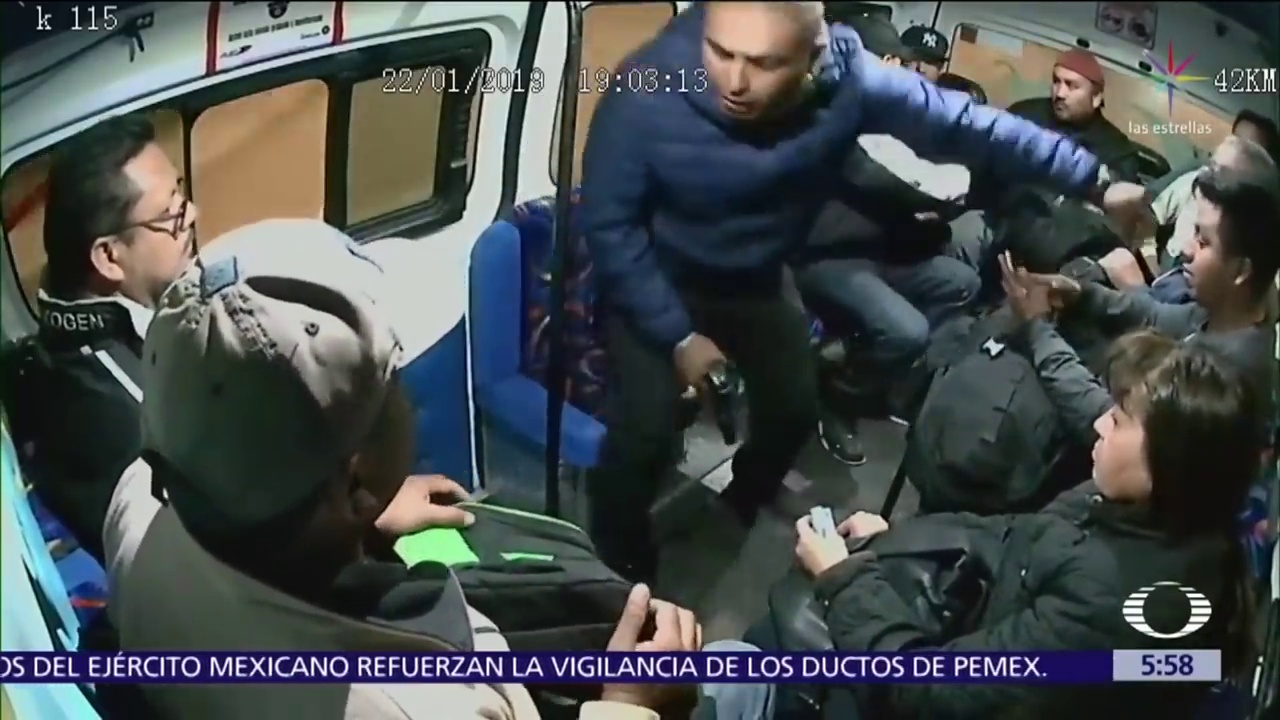pistol: (695, 357, 740, 447)
